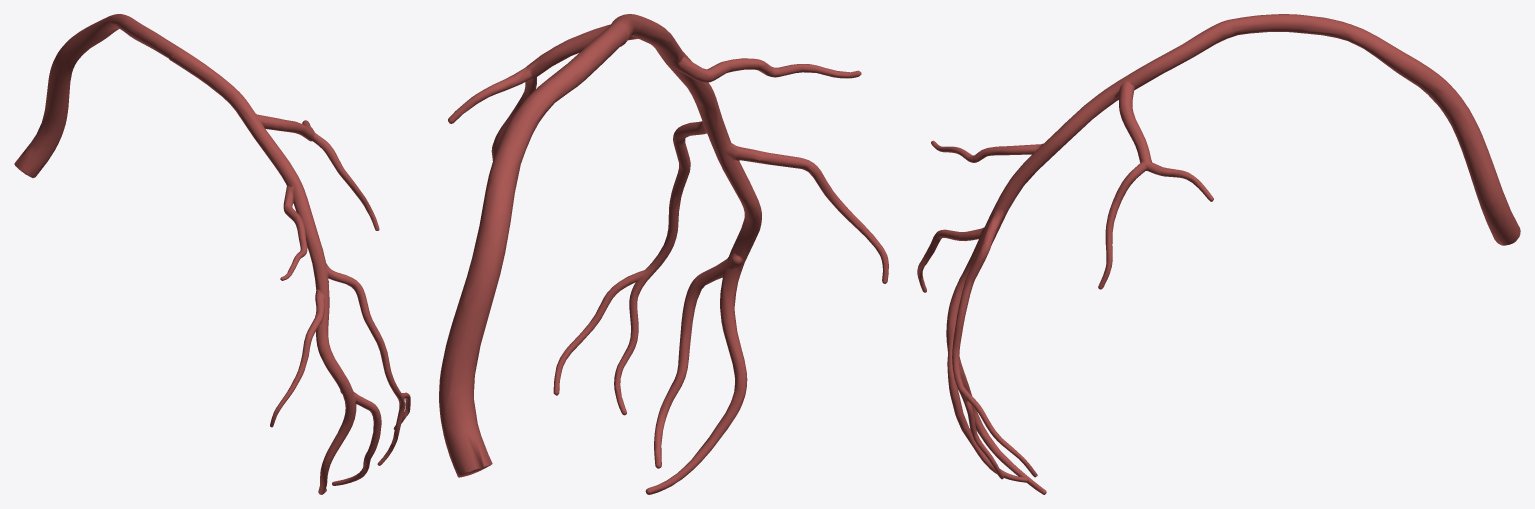
File: FMA4707.glb
3 renders of one model, left to right at view 1: azimuth 30°, elevation 25°; view 2: azimuth 150°, elevation 25°; view 3: azimuth 270°, elevation 25°, orthographic. The views are drawn at different scales.
Parts seen in each view (by area): view 1: FMA4707; view 2: FMA4707; view 3: FMA4707.
Part boxes in pixels (box(x1,y1,x2,y2)): FMA4707: box(14, 14, 410, 494); FMA4707: box(439, 14, 888, 494); FMA4707: box(917, 14, 1520, 494).
Size of the model in its own units: 0.0364 by 0.0737 by 0.091.
